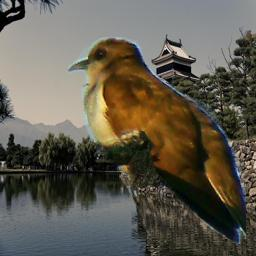Cuckoo: (68, 37, 246, 248)
